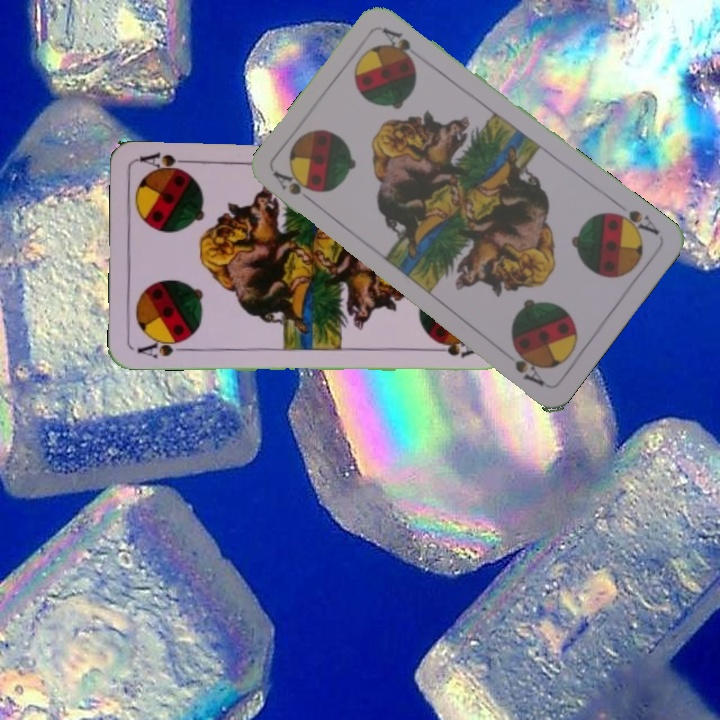SA: (605, 197, 662, 240), (270, 167, 321, 209), (133, 334, 191, 360)
